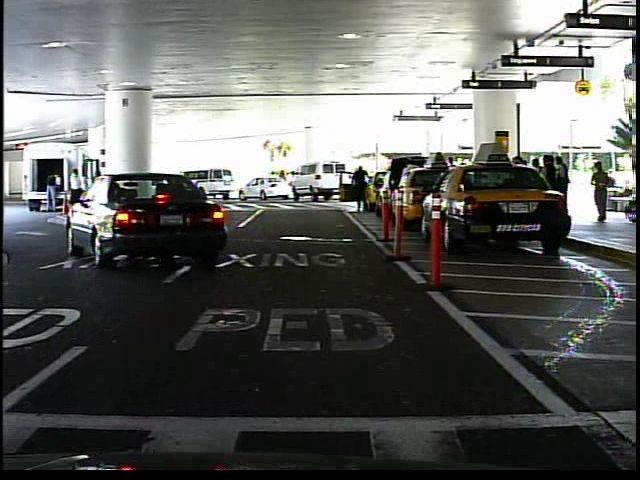person: (590, 157, 613, 224), (352, 164, 374, 216), (278, 168, 288, 196), (268, 170, 280, 178)
